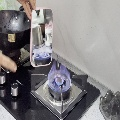fire: (47, 58, 71, 92)
